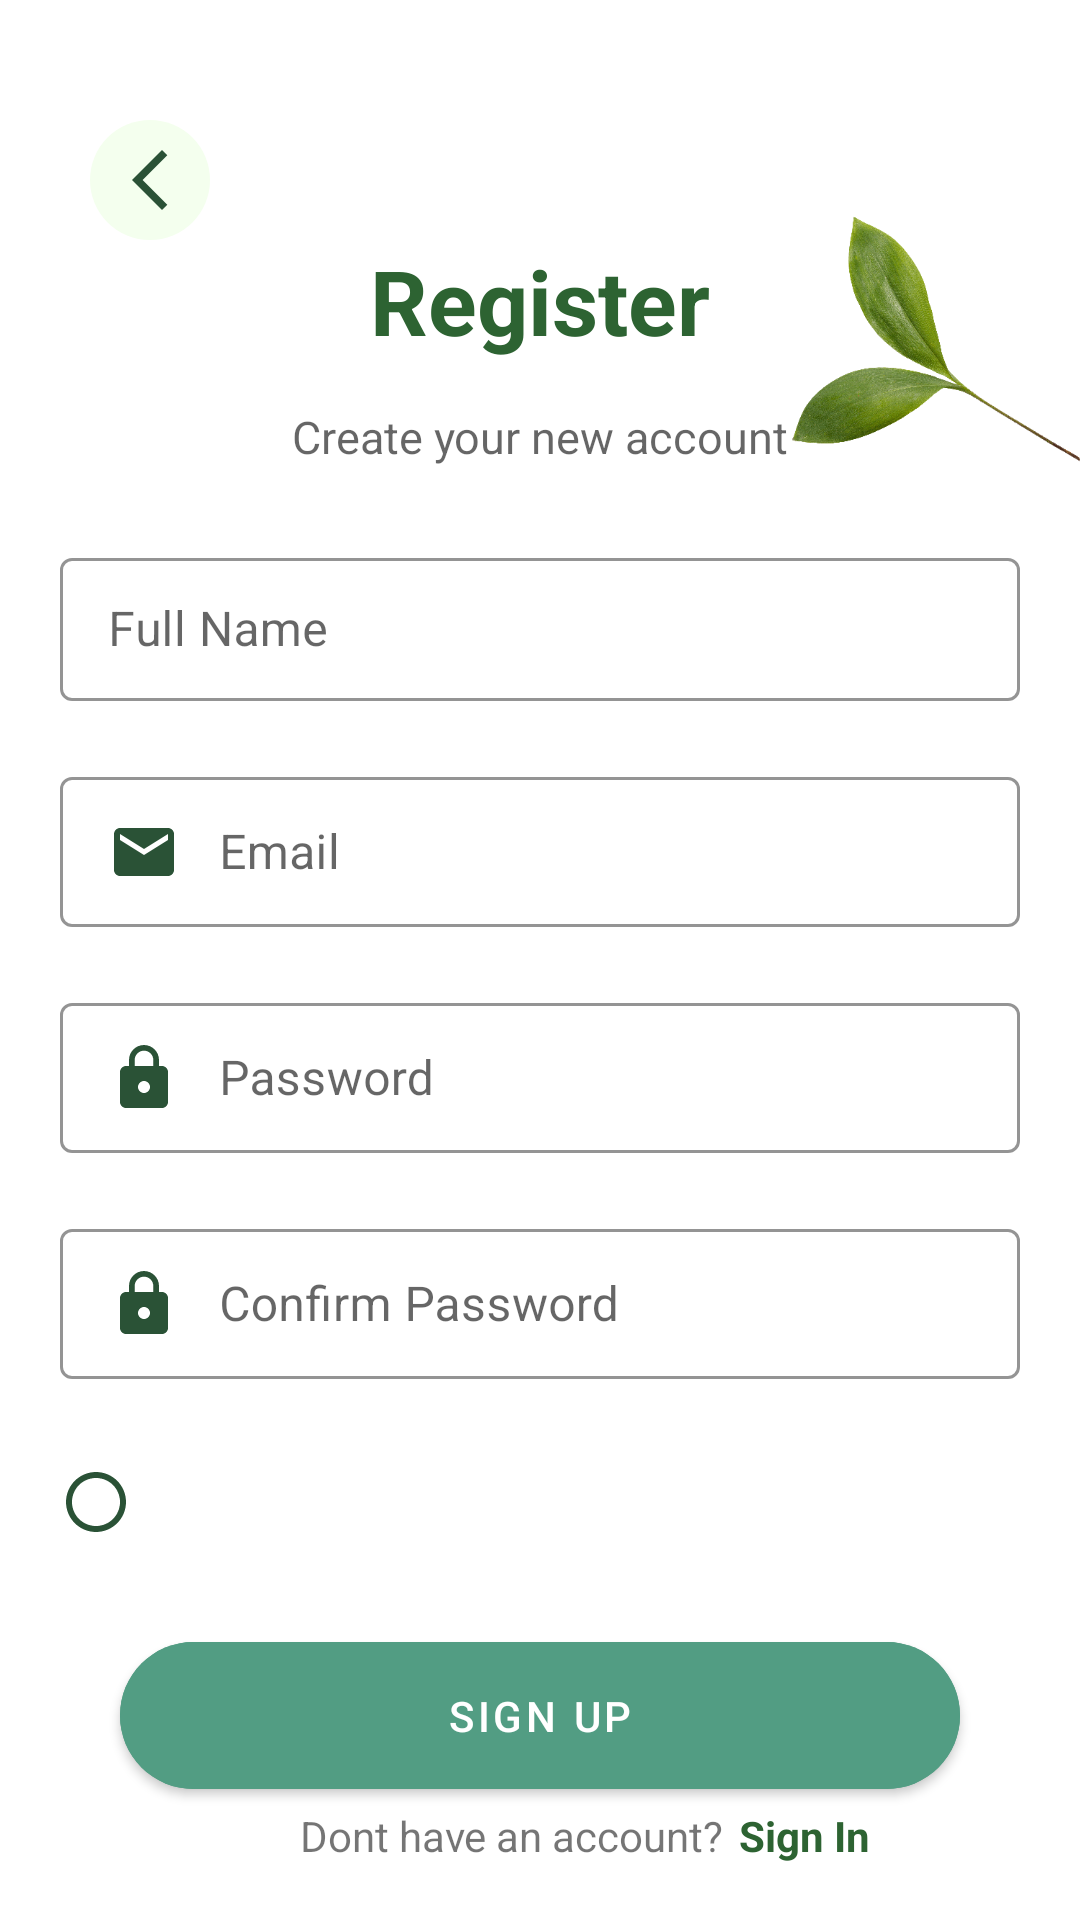

Icons on this 1080px×1920px Android screen, each with the point to tap as [x,y]:
back arrow: [150,180]
